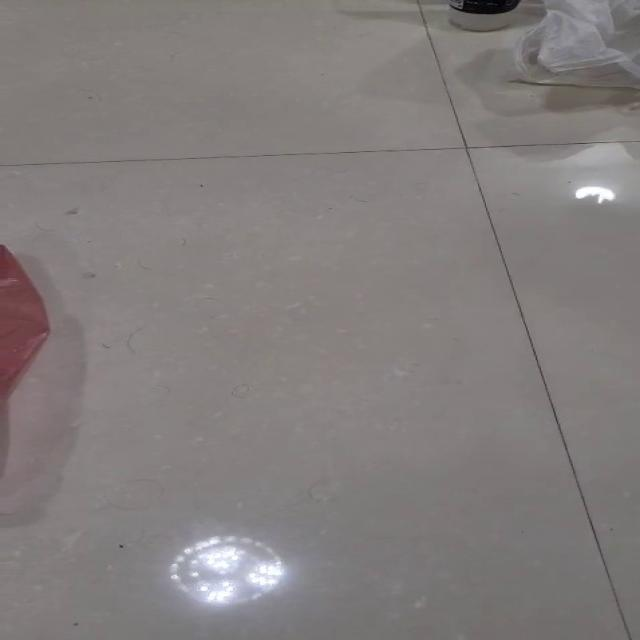plastic: (508, 0, 638, 89)
